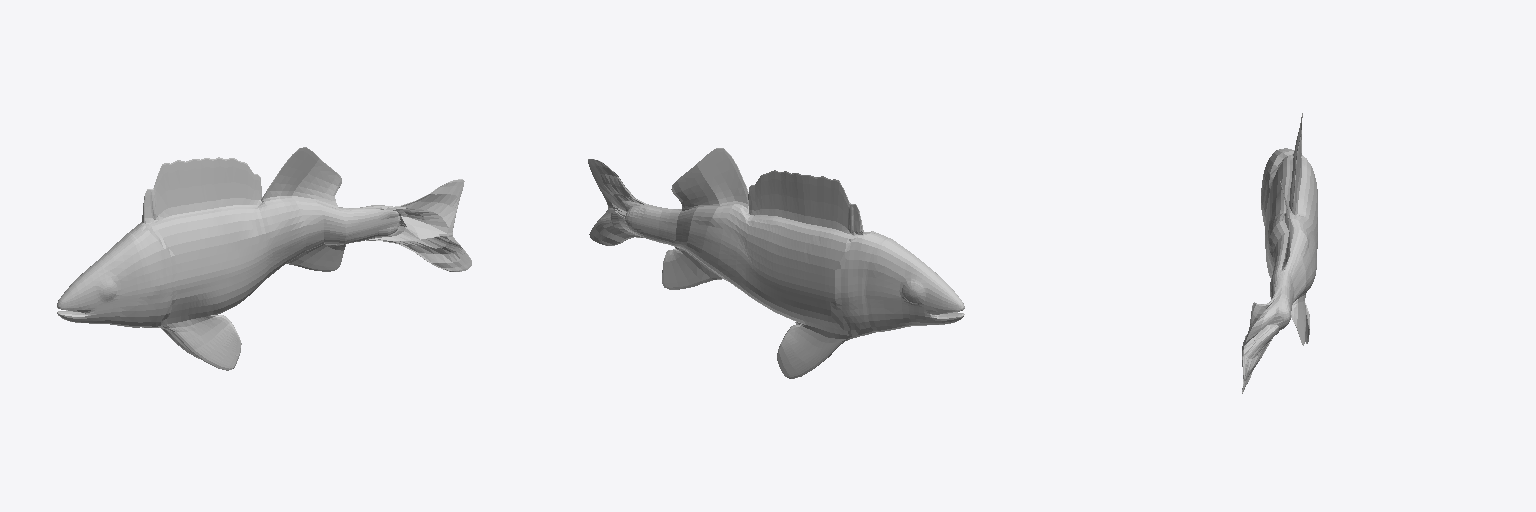
Rendered from bass.obj.
3 renders of one model, left to right at view 1: azimuth 30°, elevation 25°; view 2: azimuth 150°, elevation 25°; view 3: azimuth 270°, elevation 25°, orthographic.
Parts seen in each view (by area): view 1: Cube; view 2: Cube; view 3: Cube.
Part boxes in pixels (x1,y1,x2,y2): Cube: (57, 147, 471, 370); Cube: (588, 148, 964, 378); Cube: (1242, 113, 1317, 393).
Size of the model in its own units: 5.87 by 2.96 by 0.9909.